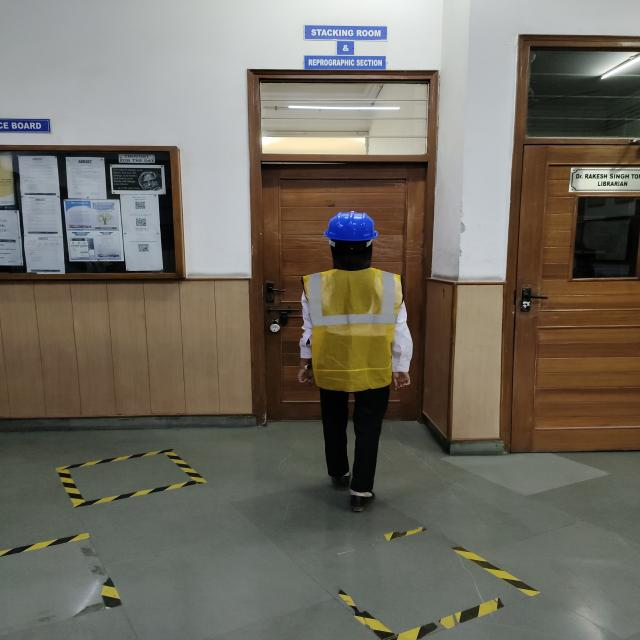safe: (300, 213, 415, 511)
